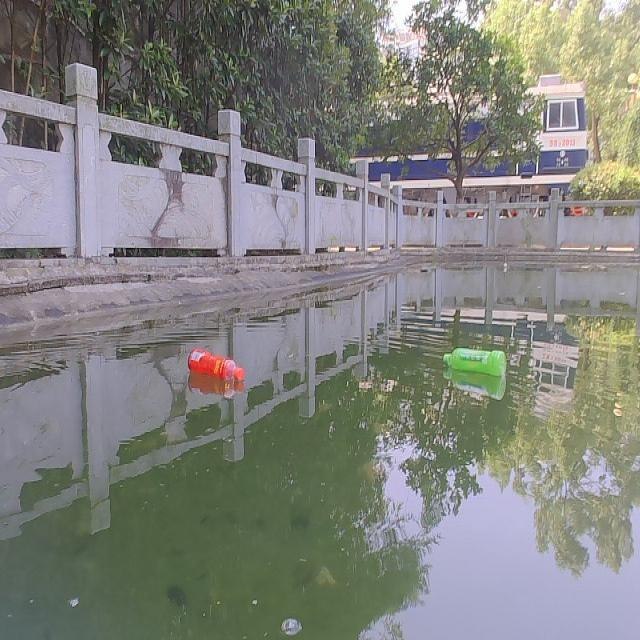bottle: (183, 343, 245, 384), (439, 347, 508, 377)
